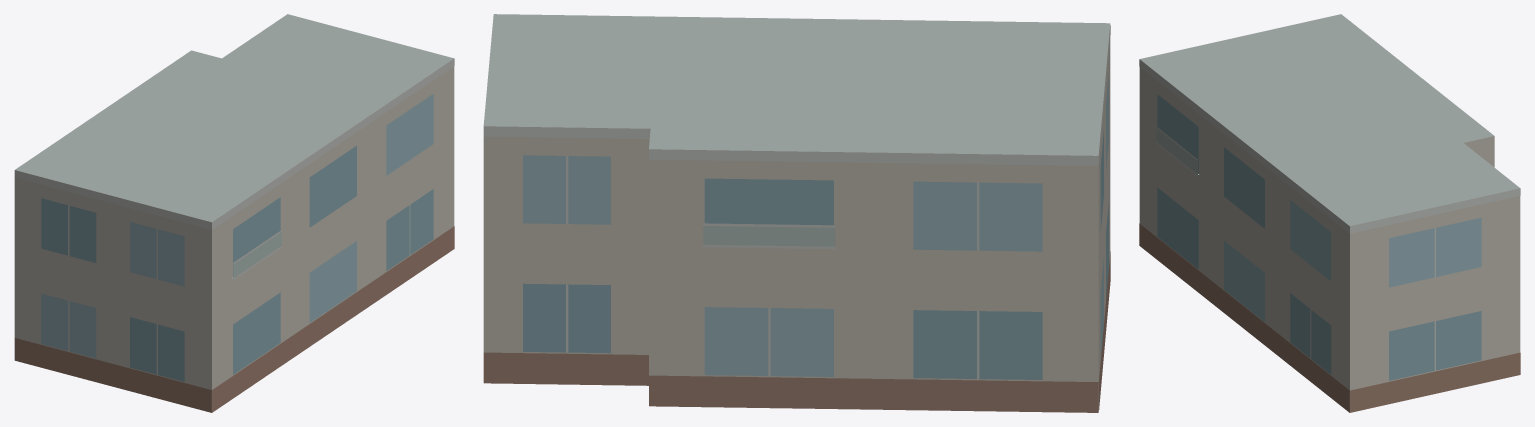
The model's file is survey-upis-33002773.glb.
3 renders of one model, left to right at view 1: azimuth 30°, elevation 25°; view 2: azimuth 150°, elevation 25°; view 3: azimuth 270°, elevation 25°, orthographic. The views are drawn at different scales.
Visible parts, largest first — view 1: survey-upis-33002773.tmp; view 2: survey-upis-33002773.tmp; view 3: survey-upis-33002773.tmp.
Boxes of the visible parts, box(x1,y1,x2,y2) form: survey-upis-33002773.tmp: box(14, 14, 454, 412); survey-upis-33002773.tmp: box(483, 14, 1110, 412); survey-upis-33002773.tmp: box(1139, 14, 1520, 412).
Size of the model in its own units: 14.89 by 6.1 by 11.3.
